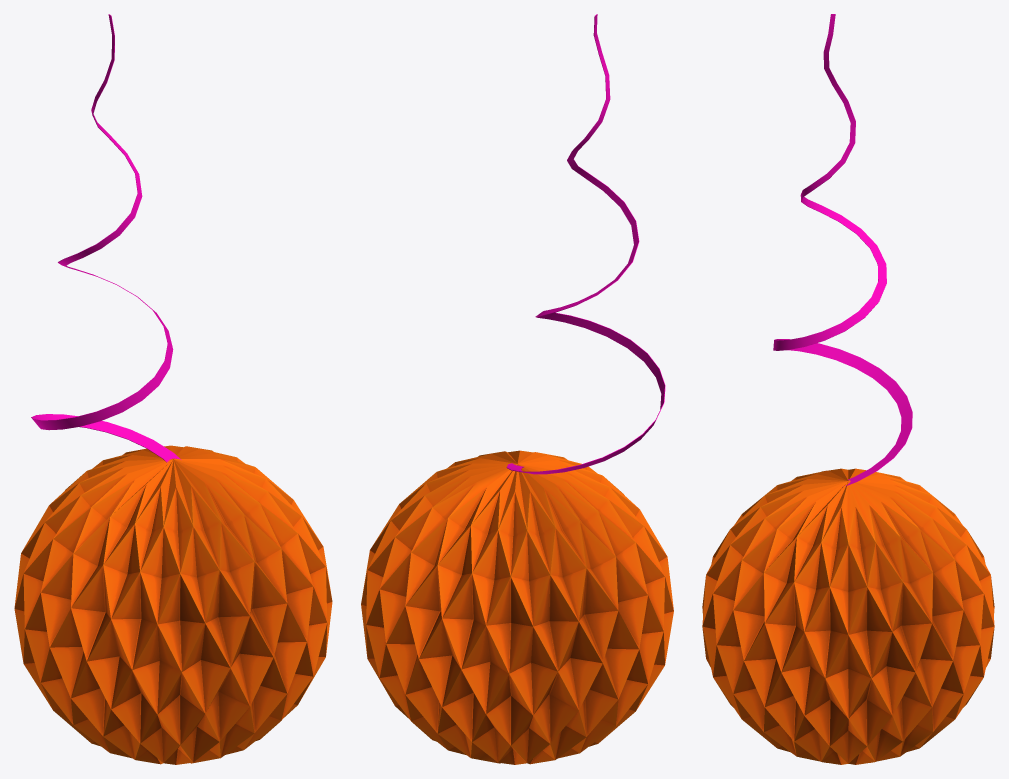
File: PartyHangings01D_7.FBX
3 views of the same model, side by side, from view 1: azimuth 30°, elevation 25°; view 2: azimuth 150°, elevation 25°; view 3: azimuth 270°, elevation 25° (orthographic). The views are drawn at different scales.
Parts seen in each view (by area): view 1: PartyHangings01D_7; view 2: PartyHangings01D_7; view 3: PartyHangings01D_7.
Boxes of the visible parts, bbox=[...] form: PartyHangings01D_7: bbox=[14, 14, 332, 764]; PartyHangings01D_7: bbox=[361, 14, 673, 764]; PartyHangings01D_7: bbox=[702, 14, 994, 764].
Size of what is drawn, in the model's own units: 0.3619 by 0.9633 by 0.3614.
